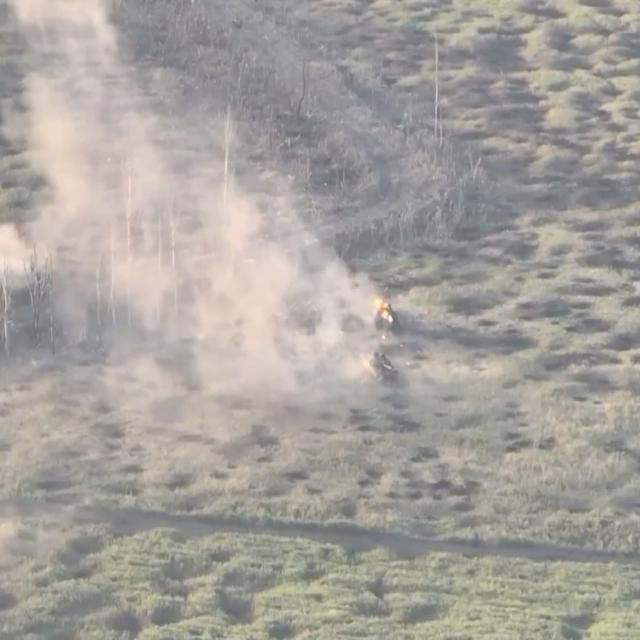MBT: (371, 303, 401, 335)
